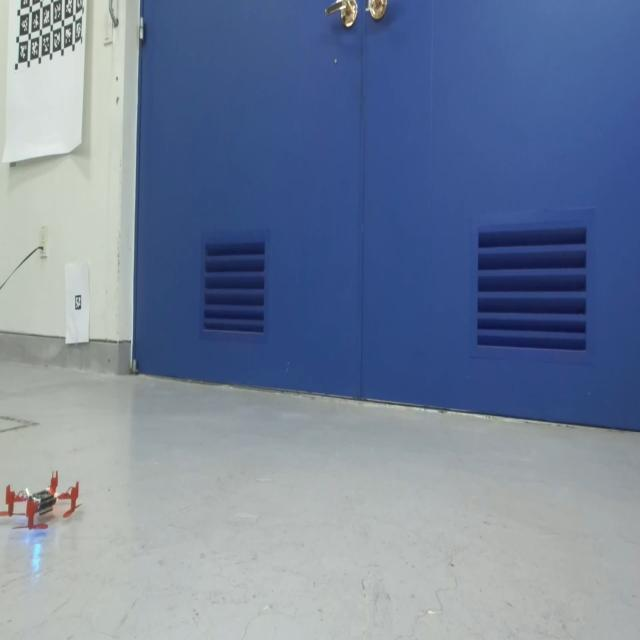crazyflie: (0, 470, 86, 534)
